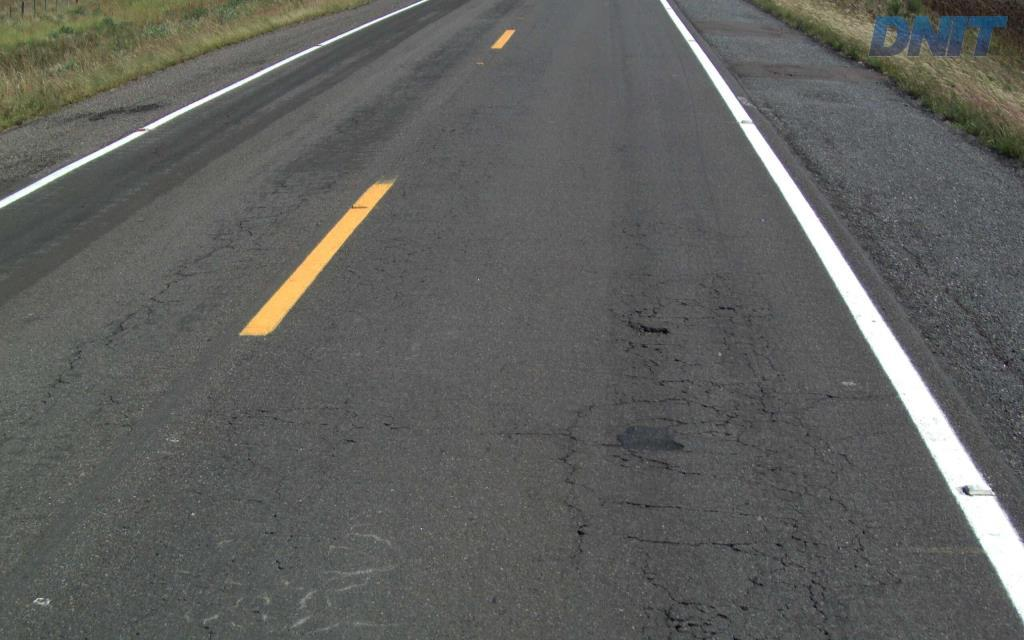crack: (640, 559, 702, 608), (769, 535, 805, 592), (802, 566, 849, 608), (779, 517, 812, 564), (620, 307, 671, 337), (754, 381, 780, 423)
